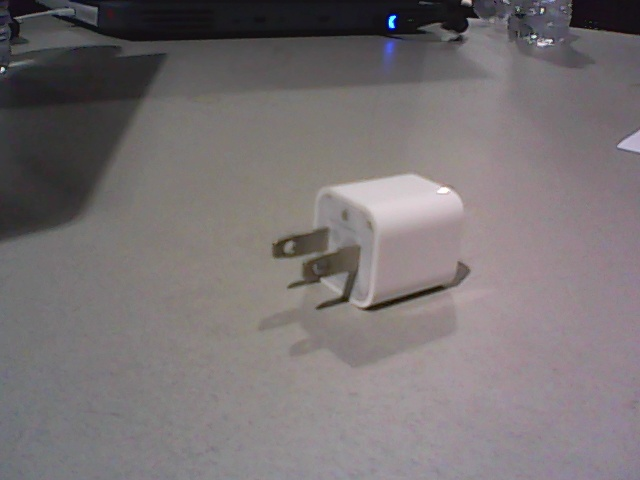charger: (272, 173, 466, 310)
